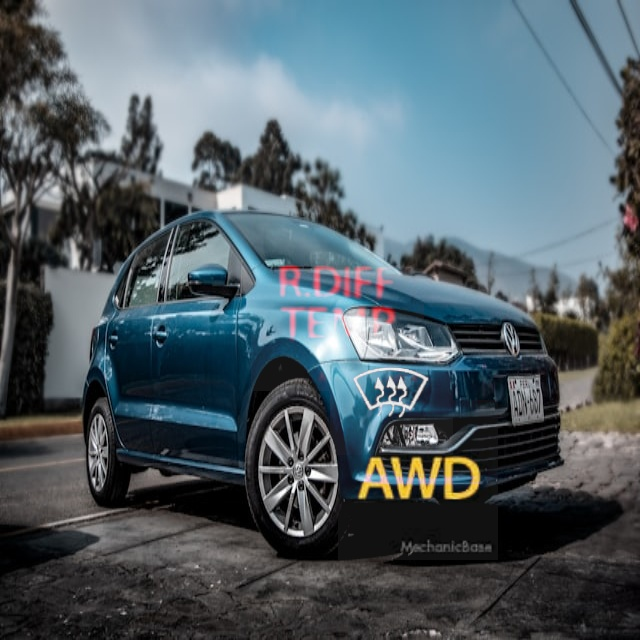symbol: (251, 218, 424, 391), (338, 400, 498, 560), (330, 332, 453, 455)
